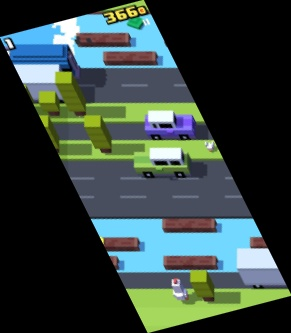car: (134, 147, 192, 182), (144, 110, 196, 142)
duck: (171, 278, 189, 303)
lilypad: (126, 16, 145, 30)
log: (163, 217, 218, 233), (163, 256, 219, 271), (74, 33, 132, 47), (106, 51, 158, 65), (95, 237, 139, 251), (248, 237, 277, 250), (88, 257, 119, 269)
tree: (55, 71, 88, 119), (82, 115, 113, 156), (32, 115, 63, 155), (186, 270, 217, 302), (40, 92, 62, 117)
truck: (5, 43, 81, 82), (6, 64, 68, 103), (235, 249, 291, 289)
water: (87, 218, 280, 272), (1, 13, 181, 68)
